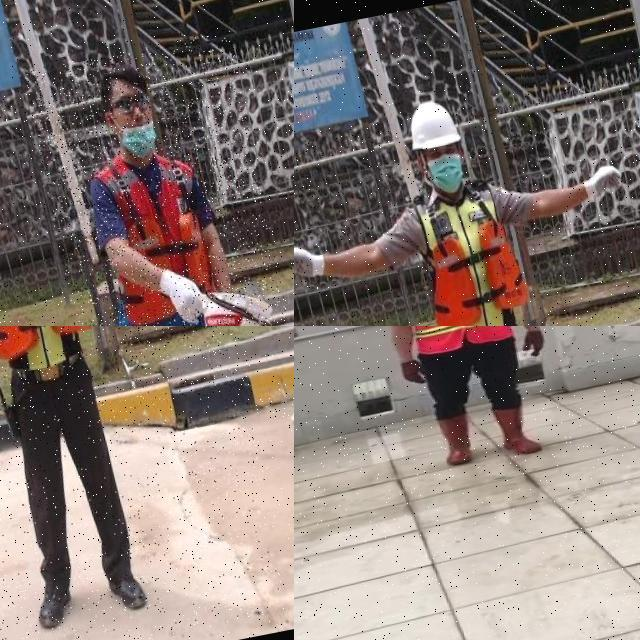boots: (100, 550, 153, 620), (28, 566, 80, 636), (489, 404, 542, 461), (433, 411, 480, 468)
helmet: (357, 326, 578, 479), (402, 98, 464, 152)
vest: (84, 142, 236, 326), (407, 181, 535, 326), (0, 326, 103, 385), (396, 326, 513, 359)
